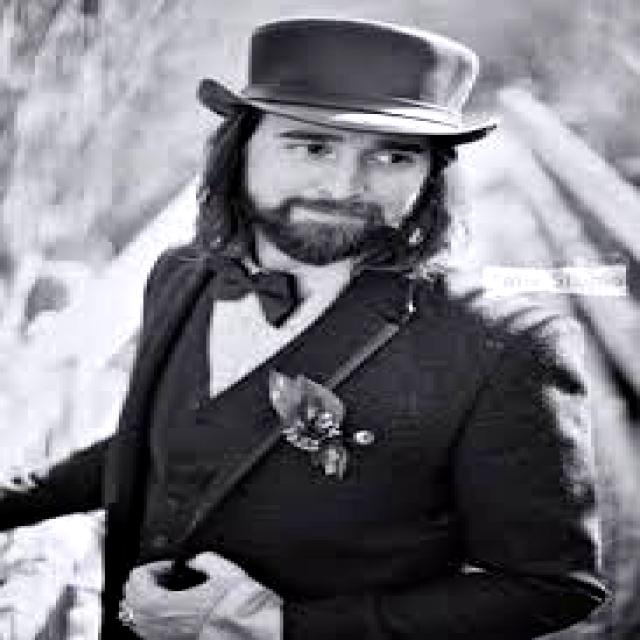hat: (200, 19, 496, 144)
